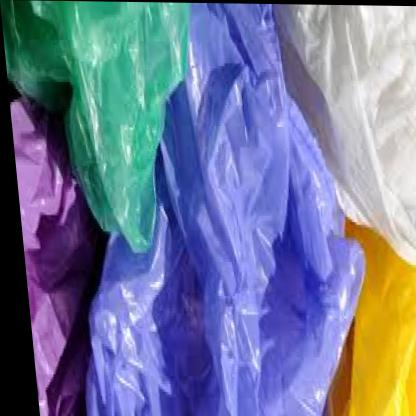Plastic: (63, 244, 358, 416), (166, 10, 332, 237), (8, 0, 169, 227), (320, 4, 416, 241), (338, 258, 416, 416), (21, 238, 74, 414)
